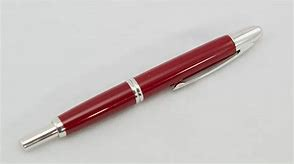pen: (16, 22, 266, 149)
